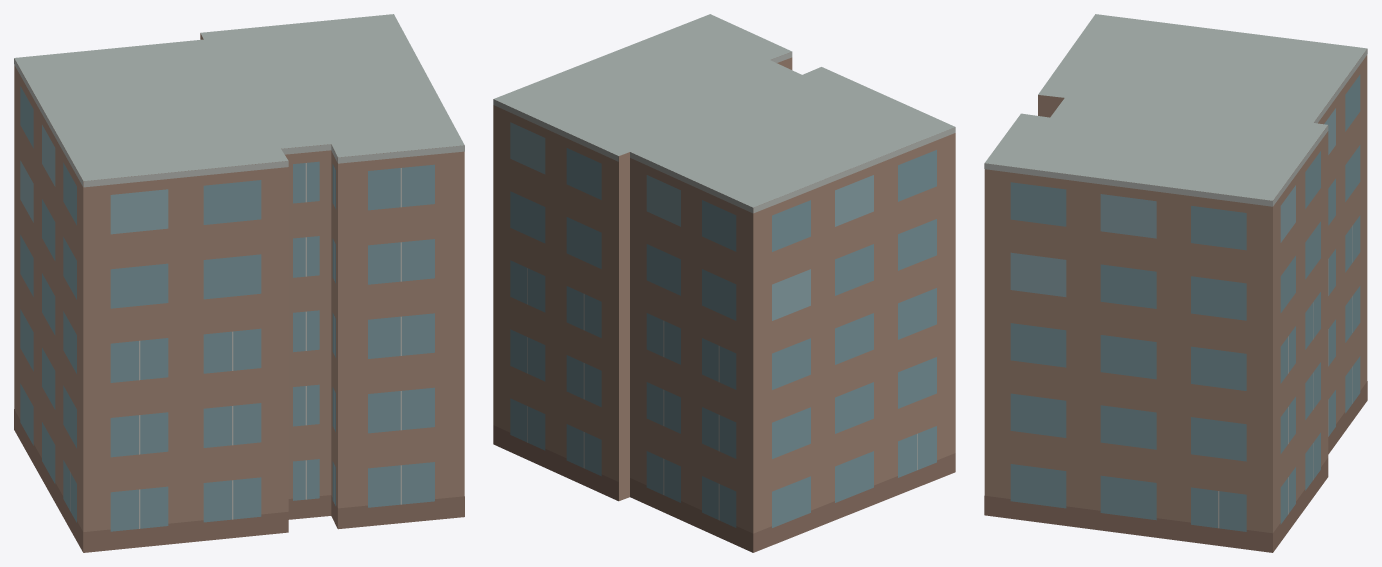
File: survey-upis-32598757.glb
3 views of the same model, side by side, from view 1: azimuth 30°, elevation 25°; view 2: azimuth 150°, elevation 25°; view 3: azimuth 270°, elevation 25° (orthographic). The views are drawn at different scales.
Parts seen in each view (by area): view 1: survey-upis-32598757.tmp; view 2: survey-upis-32598757.tmp; view 3: survey-upis-32598757.tmp.
Boxes of the visible parts, bbox=[...] form: survey-upis-32598757.tmp: bbox=[14, 14, 464, 552]; survey-upis-32598757.tmp: bbox=[493, 14, 955, 552]; survey-upis-32598757.tmp: bbox=[984, 14, 1367, 552].
Size of the model in its own units: 16.51 by 14.5 by 14.31.
